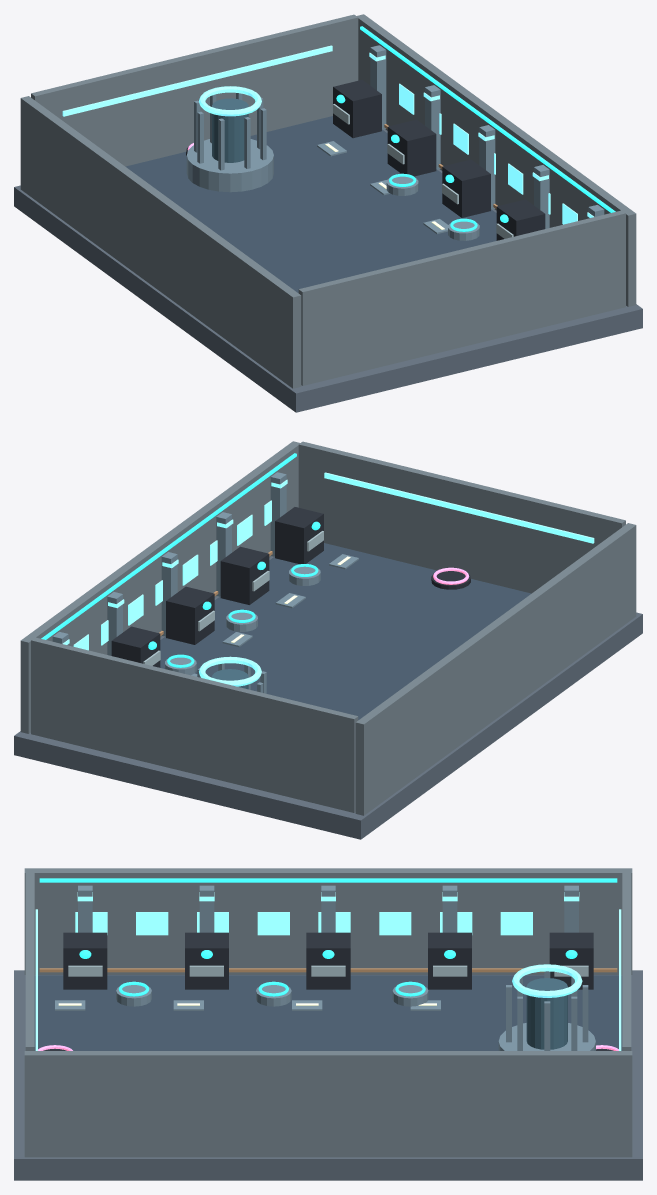
File: reactor_interior.glb
3 views of the same model, one above another, from view 1: azimuth 30°, elevation 25°; view 2: azimuth 150°, elevation 25°; view 3: azimuth 270°, elevation 25° (orthographic). The views are drawn at different scales.
Visible parts, largest first — view 1: front rear structural wall, reactor hall inset deck, three-meter interior wall, front rear structural wall.001, industrial interior floor, three-meter interior wall.001, defensive fusion reactor base, shielded maintenance module.008, shielded maintenance module.007, shielded maintenance module.009, upper bulkhead fluorescent band.001, main ion reactor cylinder (+7 smaller); view 2: front rear structural wall.001, reactor hall inset deck, three-meter interior wall, front rear structural wall, industrial interior floor, three-meter interior wall.001, shielded maintenance module.006, shielded maintenance module.007, shielded maintenance module.005, upper bulkhead fluorescent band, ceiling-edge emerald conduit.001, shielded maintenance module.008 (+5 smaller); view 3: three-meter interior wall.001, three-meter interior wall, reactor hall inset deck, industrial interior floor, ceiling-edge emerald conduit, main ion reactor cylinder, shielded maintenance module.002, shielded maintenance module, shielded maintenance module.001, shielded maintenance module.003, shielded maintenance module.004, front rear structural wall (+16 smaller).
Part boxes in pixels (x1,y1,x2,y2): front rear structural wall: (298, 210, 625, 385); reactor hall inset deck: (125, 116, 496, 292); three-meter interior wall: (20, 96, 301, 388); front rear structural wall.001: (31, 14, 358, 166); industrial interior floor: (14, 129, 642, 412); three-meter interior wall.001: (357, 14, 636, 306); defensive fusion reactor base: (186, 139, 273, 192); shielded maintenance module.008: (387, 119, 436, 176); shielded maintenance module.007: (442, 159, 490, 217); shielded maintenance module.009: (333, 80, 381, 138); upper bulkhead fluorescent band.001: (62, 45, 332, 116); main ion reactor cylinder: (212, 98, 248, 162); front rear structural wall.001: (31, 637, 358, 812); reactor hall inset deck: (160, 543, 531, 719); three-meter interior wall: (355, 523, 636, 815); front rear structural wall: (298, 441, 625, 593); industrial interior floor: (14, 556, 642, 839); three-meter interior wall.001: (20, 441, 299, 733); shielded maintenance module.006: (220, 546, 269, 604); shielded maintenance module.007: (166, 586, 214, 644); shielded maintenance module.005: (275, 507, 323, 564); upper bulkhead fluorescent band: (324, 472, 594, 543); ceiling-edge emerald conduit.001: (41, 453, 296, 639); shielded maintenance module.008: (111, 626, 160, 667); three-meter interior wall.001: (24, 1051, 632, 1157); three-meter interior wall: (24, 868, 632, 974); reactor hall inset deck: (34, 975, 622, 1050); industrial interior floor: (14, 970, 642, 1180); ceiling-edge emerald conduit: (39, 878, 617, 882); main ion reactor cylinder: (526, 978, 567, 1049); shielded maintenance module.002: (306, 932, 350, 989); shielded maintenance module: (63, 932, 107, 989); shielded maintenance module.001: (185, 932, 228, 989); shielded maintenance module.003: (428, 932, 471, 989); shielded maintenance module.004: (549, 932, 593, 989); front rear structural wall: (25, 871, 34, 1050).
Size of the model in its own units: 14.7 by 4.61 by 20.7.
